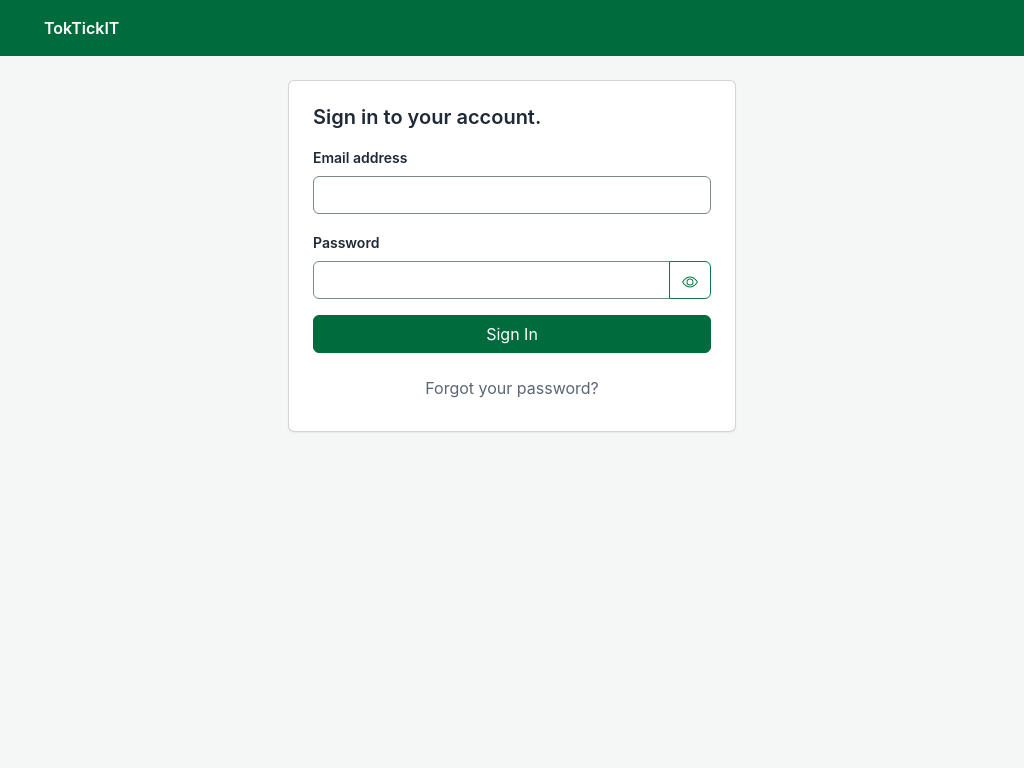
Test: LoginPage › navigates to Change Password when mustChangePassword is true
The width and height of the screenshot is (1024, 768).
Type "onboarding@toktickit.local" into the field labelled "Email address".
click(512, 195); type("onboarding@toktickit.local")  # box [313,176,711,214]
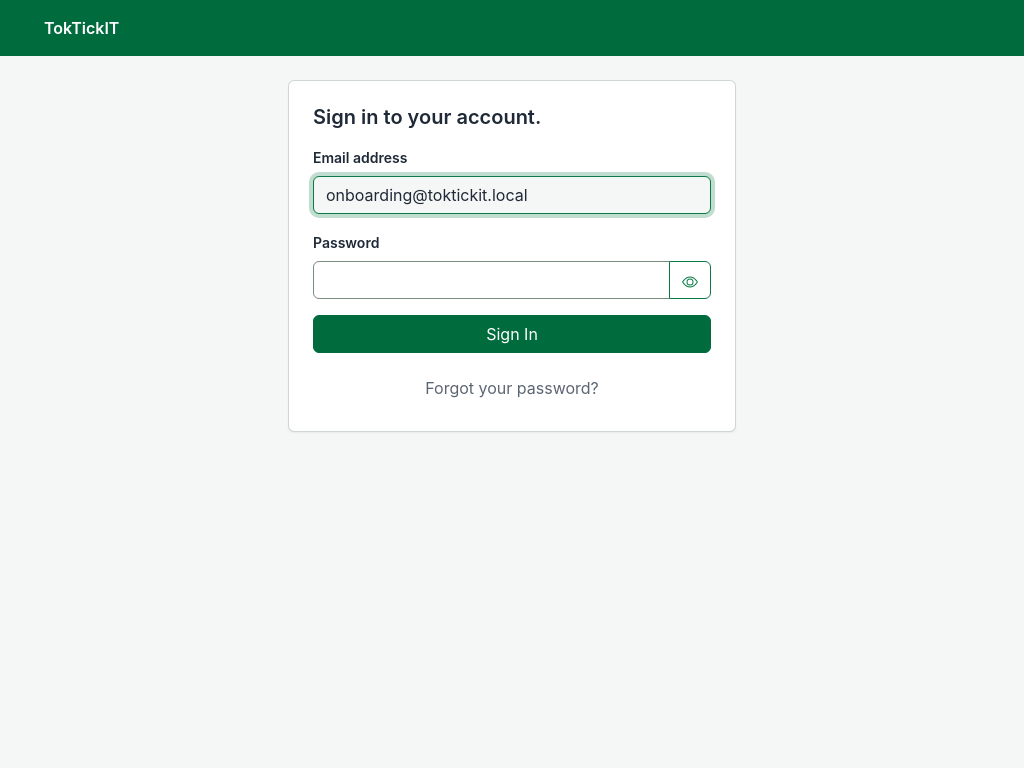
Type "DevPass123!" into the password field labelled "Password".
click(492, 280); type("DevPass123!")  # box [313,261,670,299]
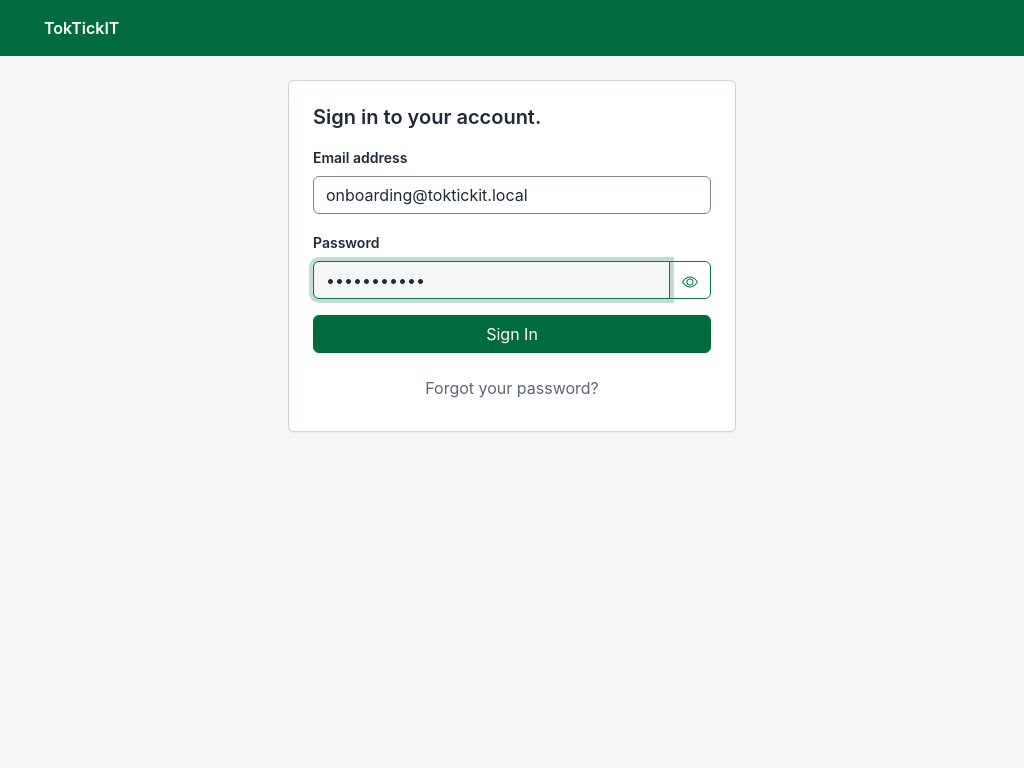
Click the button "Sign In".
click(512, 334)  # box [313,315,711,353]
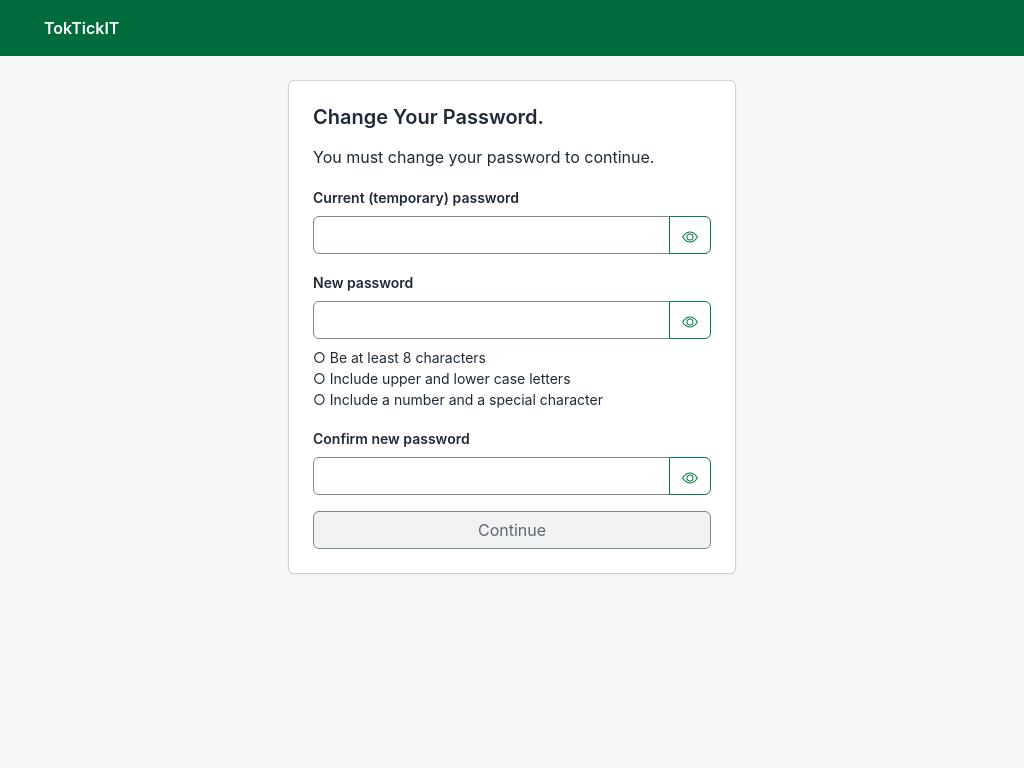
expect the heading "Change Your Password." is shown: met, box [313,105,544,129]
